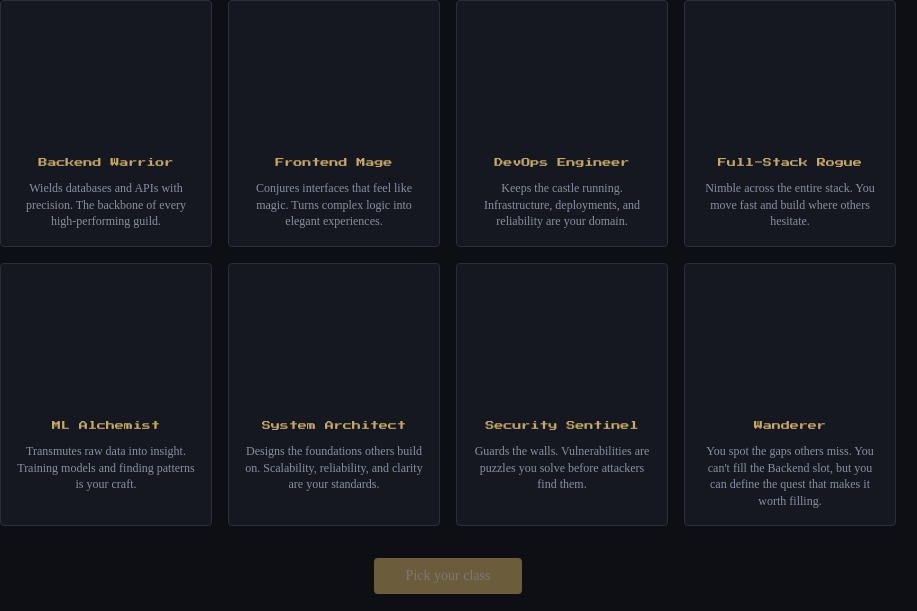
ClassSelector › CTA becomes enabled after selection and shows class name
Click the option "Wanderer" at (790, 394), box top-left (684, 263), bottom-right (896, 526)
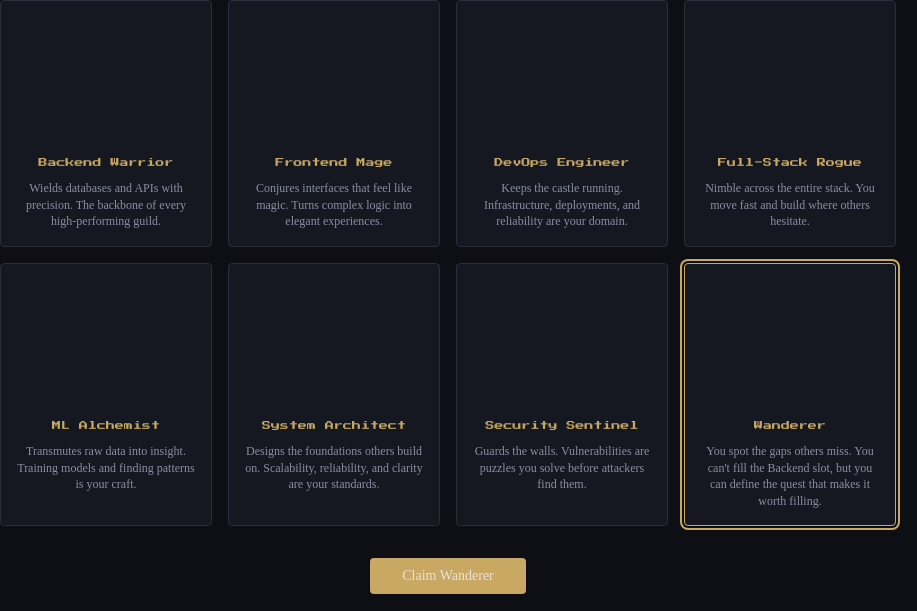
Now the button is enabled, box top-left (370, 558), bottom-right (526, 594)
Now the button reads "Claim Wanderer", box top-left (370, 558), bottom-right (526, 594)
